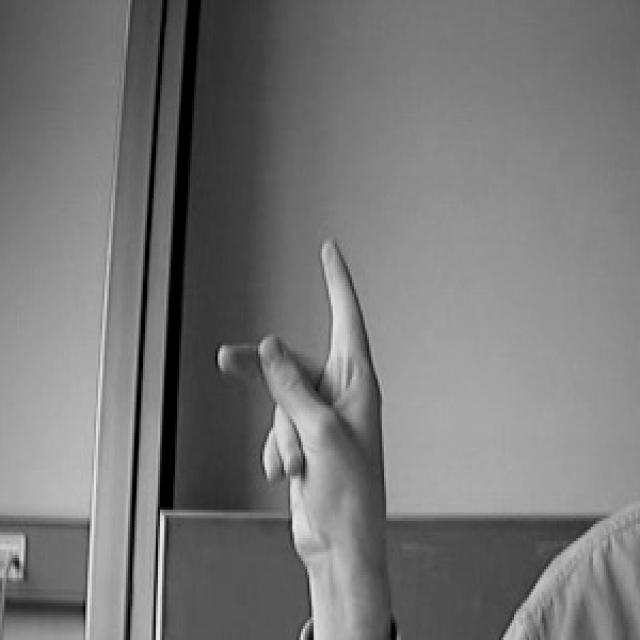K: (213, 222, 399, 571)
